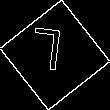L_S: (37, 28, 73, 82)
